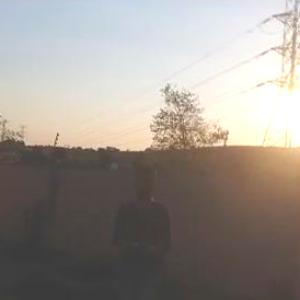follow: (105, 158, 177, 299)
